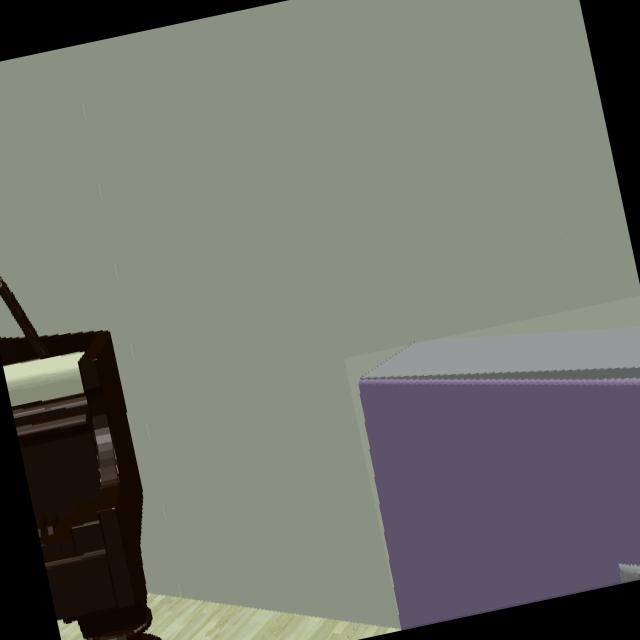cabinet: (359, 326, 640, 627)
